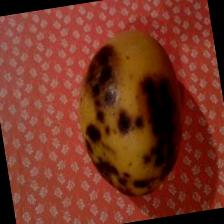Mango Overripe: (68, 28, 198, 204)
